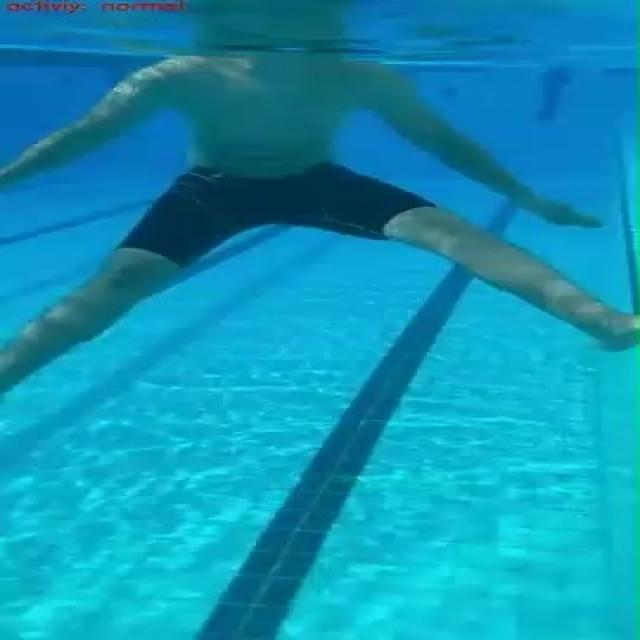Drowning: (0, 51, 640, 397)
